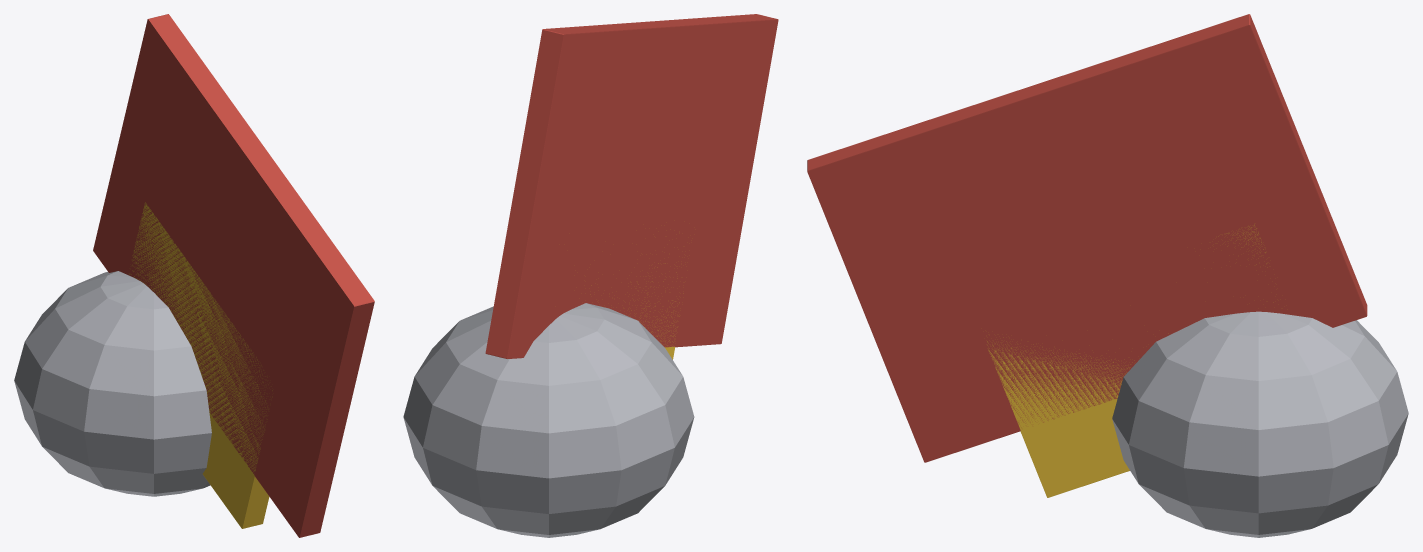
The model's file is draft-fin.glb.
3 renders of one model, left to right at view 1: azimuth 30°, elevation 25°; view 2: azimuth 150°, elevation 25°; view 3: azimuth 270°, elevation 25°, orthographic. The views are drawn at different scales.
Parts seen in each view (by area): view 1: fin, cap, fin2; view 2: fin, cap; view 3: fin, cap, fin2.
Boxes of the visible parts, x1,y1,x2,y2 form: fin: (93, 14, 374, 537); cap: (14, 271, 211, 496); fin2: (129, 202, 272, 528); fin: (485, 14, 778, 358); cap: (403, 303, 694, 537); fin: (807, 14, 1367, 462); cap: (1112, 311, 1408, 537); fin2: (987, 224, 1273, 497).
Bounding box in the file's own units: 0.14 × 0.2587 × 0.2807.
